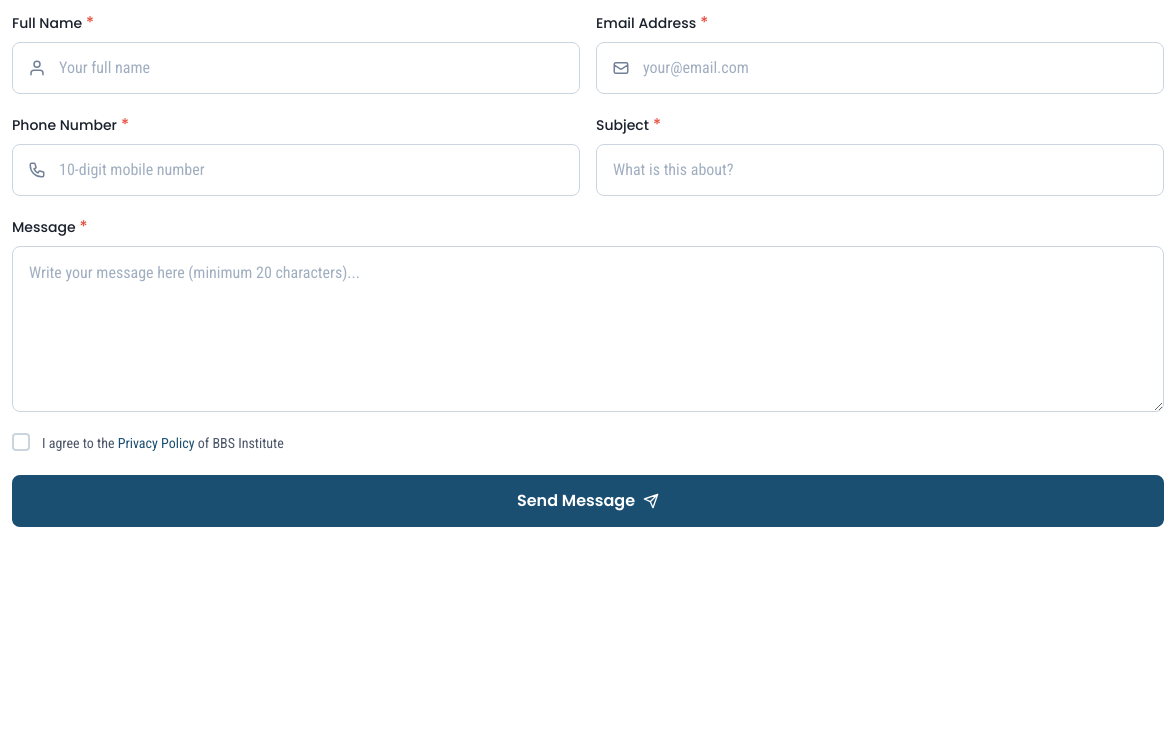
Test case: MainContactForm › shows invalid phone error for bad number
The image size is (1176, 732).
Type "12345" into the field labelled "Phone Number *". click: (296, 170)
box: [12,144,580,196]
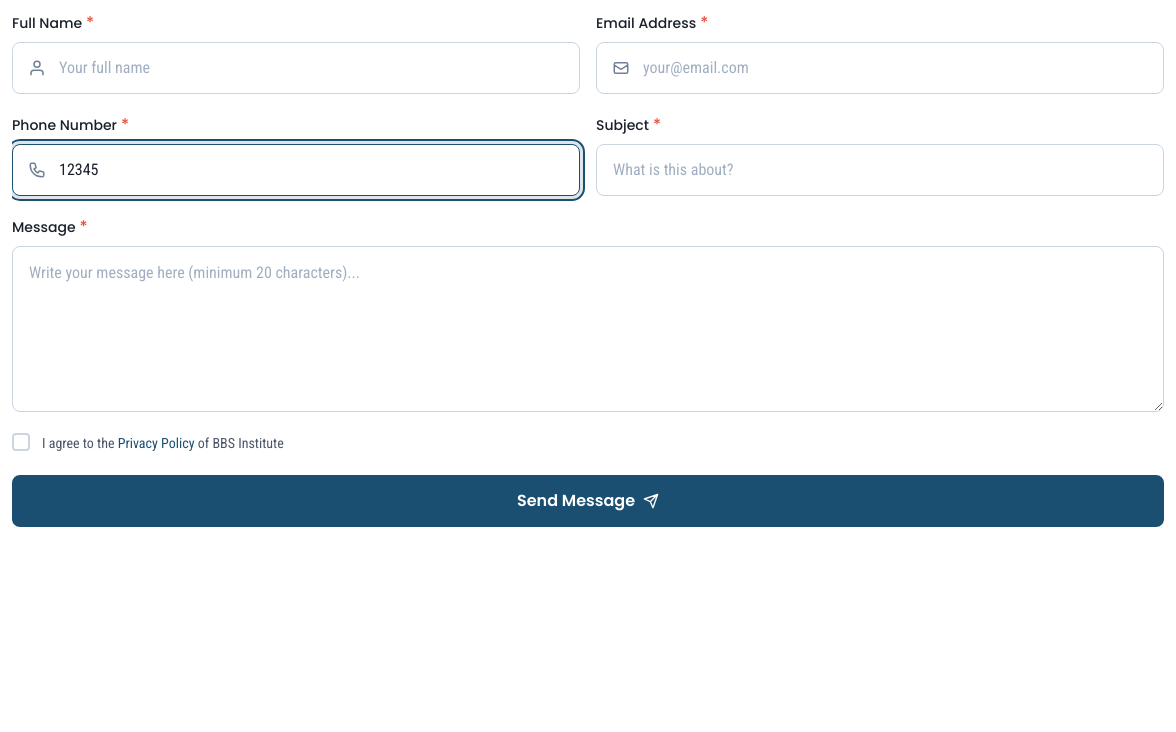
Click the button "Send Message". click: (588, 501)
box: [12,475,1164,527]
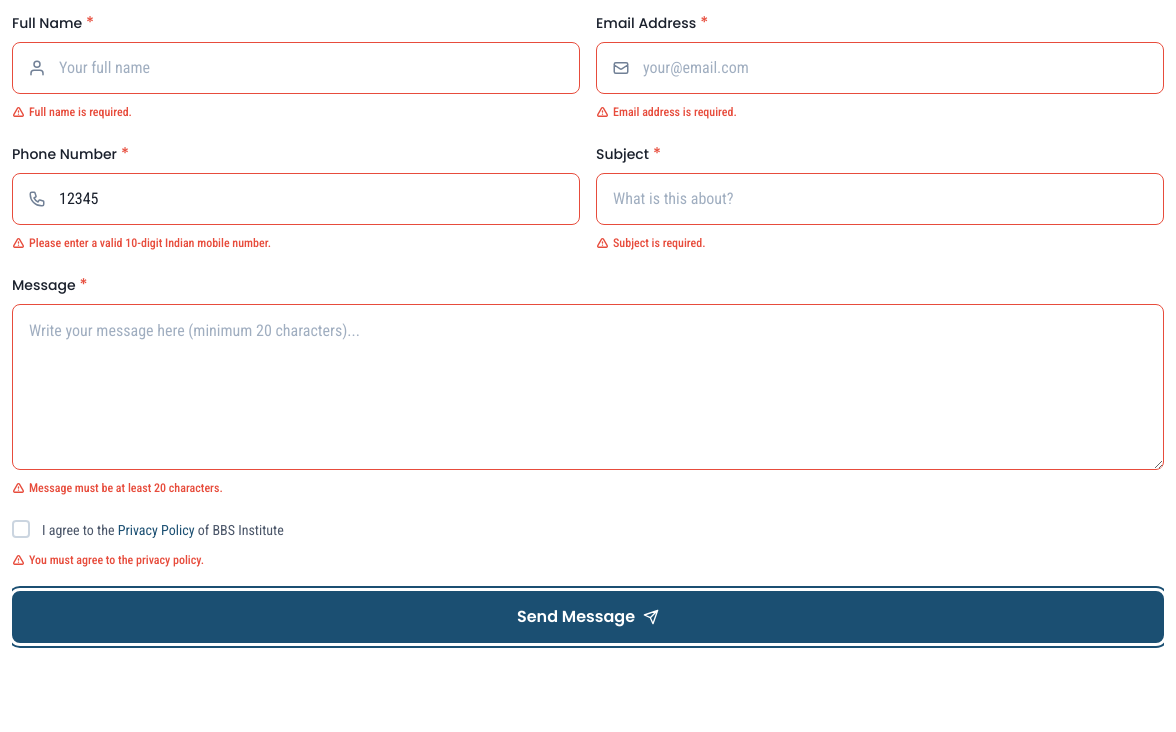
Now the text "Please enter a valid 10-digit Indian mobile number." is shown, box [12,236,271,250]
